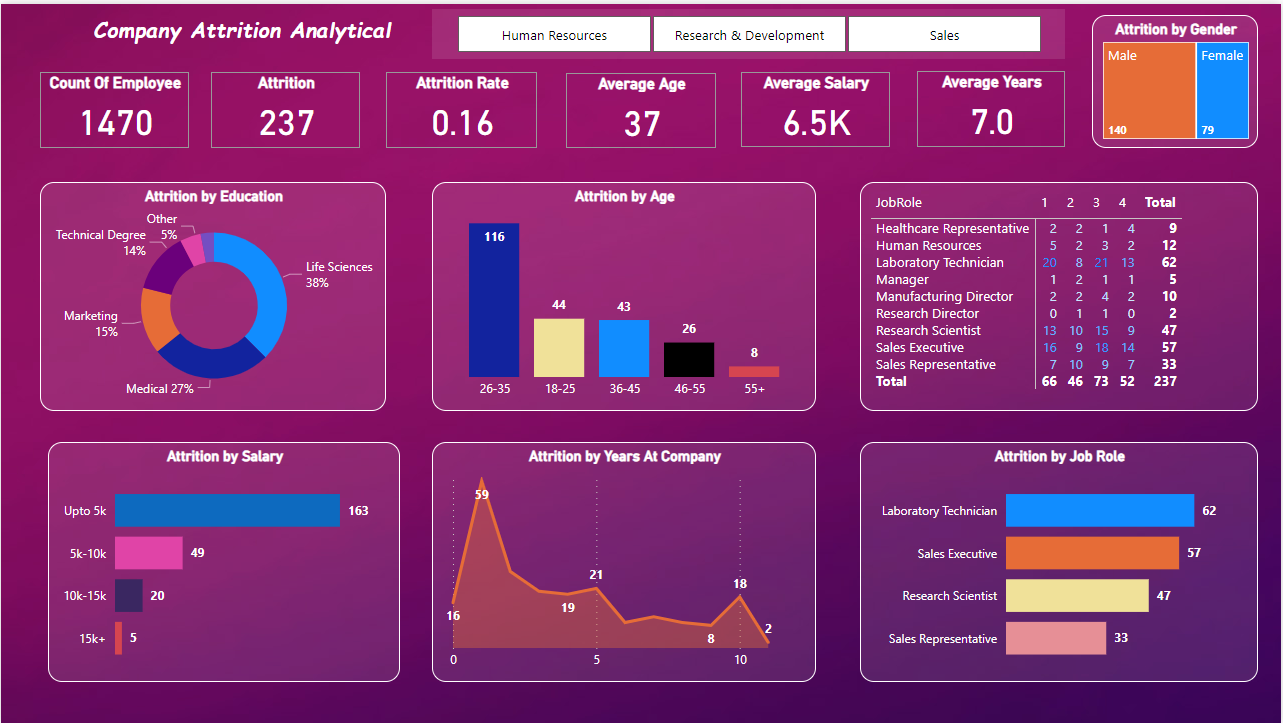

The page's visual inventory and layout, read from the dashboard file:
{"tool":"powerbi","page":{"name":"Page 1","canvas":[1280,720],"ordinal":0},"visuals":[{"type":"card","title":"Count Of Employee","fields":{"Values":["Count(HR_Analytics.EmpID)"]},"box":[38.6,68.5,149.3,75.5],"z":0},{"type":"card","title":"Attrition","fields":{"Values":["Sum(HR_Analytics.CountAttrition)"]},"box":[209.9,68.5,149.3,75.5],"z":1000},{"type":"card","title":"Attrition Rate","fields":{"Values":["HR_Analytics.AttritionRate"]},"box":[385.5,68.5,150.1,75.5],"z":2000},{"type":"card","title":"Average Age","fields":{"Values":["Avg(HR_Analytics.Age)"]},"box":[565.5,69.4,149.3,74.6],"z":3000},{"type":"card","title":"Average Salary","fields":{"Values":["Avg(HR_Analytics.MonthlyIncome)"]},"box":[740.2,68.5,149.3,74.6],"z":4000},{"type":"card","title":"Average Years","fields":{"Values":["Avg(HR_Analytics.YearsAtCompany)"]},"box":[915.8,66.7,148.4,76.4],"z":5000},{"type":"donutChart","title":"Attrition by Education","fields":{"Category":["HR_Analytics.EducationField"],"Y":["Sum(HR_Analytics.CountAttrition)"]},"box":[38.6,178.2,346.8,228.3],"z":6000},{"type":"columnChart","title":"Attrition by Age","fields":{"Category":["HR_Analytics.AgeGroup"],"Y":["Sum(HR_Analytics.CountAttrition)"]},"box":[431.1,178.2,383.7,228.3],"z":7000},{"type":"pivotTable","fields":{"Rows":["HR_Analytics.JobRole"],"Columns":["HR_Analytics.JobSatisfaction"],"Values":["Sum(HR_Analytics.CountAttrition)"]},"box":[858.7,178.2,398.6,228.3],"z":8000},{"type":"barChart","title":"Attrition by Salary","fields":{"Category":["HR_Analytics.SalarySlab"],"Y":["Sum(HR_Analytics.CountAttrition)"]},"box":[38.6,480.3,352.1,239.7],"z":9000},{"type":"barChart","title":"Attrition by Job Role","fields":{"Category":["HR_Analytics.JobRole"],"Y":["Sum(HR_Analytics.CountAttrition)"]},"box":[858.7,438.1,398.6,239.7],"z":10000},{"type":"areaChart","title":"Attrition by Years At Company","fields":{"Category":["HR_Analytics.YearsAtCompany"],"Y":["Sum(HR_Analytics.CountAttrition)"]},"box":[431.1,438.1,383.7,239.7],"z":11000},{"type":"treemap","title":"Attrition by Gender","fields":{"Group":["HR_Analytics.Gender"],"Values":["Sum(HR_Analytics.CountAttrition)"]},"box":[1090.5,10.5,166.8,133.5],"z":12000},{"type":"textbox","box":[38.6,5.3,404.8,44.8],"z":13000},{"type":"slicer","fields":{"Values":["HR_Analytics.Department"]},"box":[431.1,5.3,633.1,50],"z":14000}]}

Visuals, with their boxes in screenshot pixels (x1, y1, x2, y2), scaled from the page's 1280x720 canvas onto the 1283x723 screenshot:
"Count Of Employee" card: locate(39, 69, 188, 145)
"Attrition" card: locate(210, 69, 360, 145)
"Attrition Rate" card: locate(386, 69, 537, 145)
"Average Age" card: locate(567, 70, 716, 145)
"Average Salary" card: locate(742, 69, 892, 144)
"Average Years" card: locate(918, 67, 1067, 144)
"Attrition by Education" donutChart: locate(39, 179, 386, 408)
"Attrition by Age" columnChart: locate(432, 179, 817, 408)
pivotTable - HR_Analytics.JobRole x HR_Analytics.JobSatisfaction: locate(861, 179, 1260, 408)
"Attrition by Salary" barChart: locate(39, 482, 392, 722)
"Attrition by Job Role" barChart: locate(861, 440, 1260, 681)
"Attrition by Years At Company" areaChart: locate(432, 440, 817, 681)
"Attrition by Gender" treemap: locate(1093, 11, 1260, 145)
textbox: locate(39, 5, 444, 50)
slicer - HR_Analytics.Department: locate(432, 5, 1067, 56)
